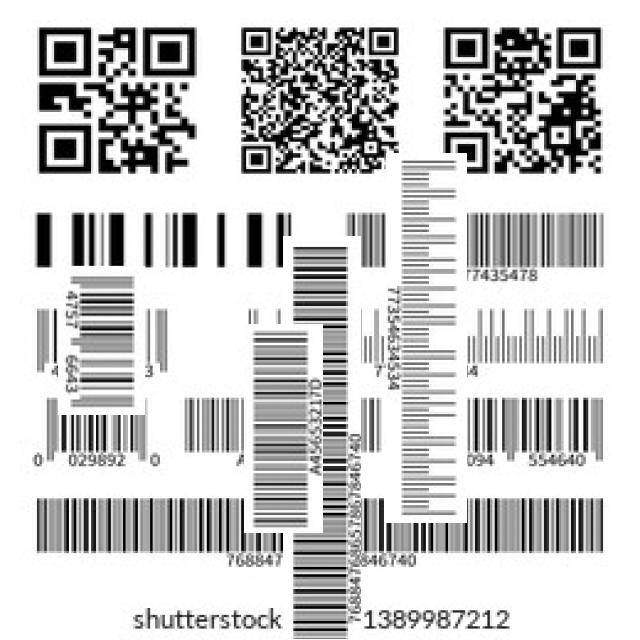Barkod: (156, 362, 487, 640), (313, 225, 539, 451), (338, 202, 609, 288), (211, 356, 356, 501), (26, 204, 299, 276), (42, 282, 161, 401)
